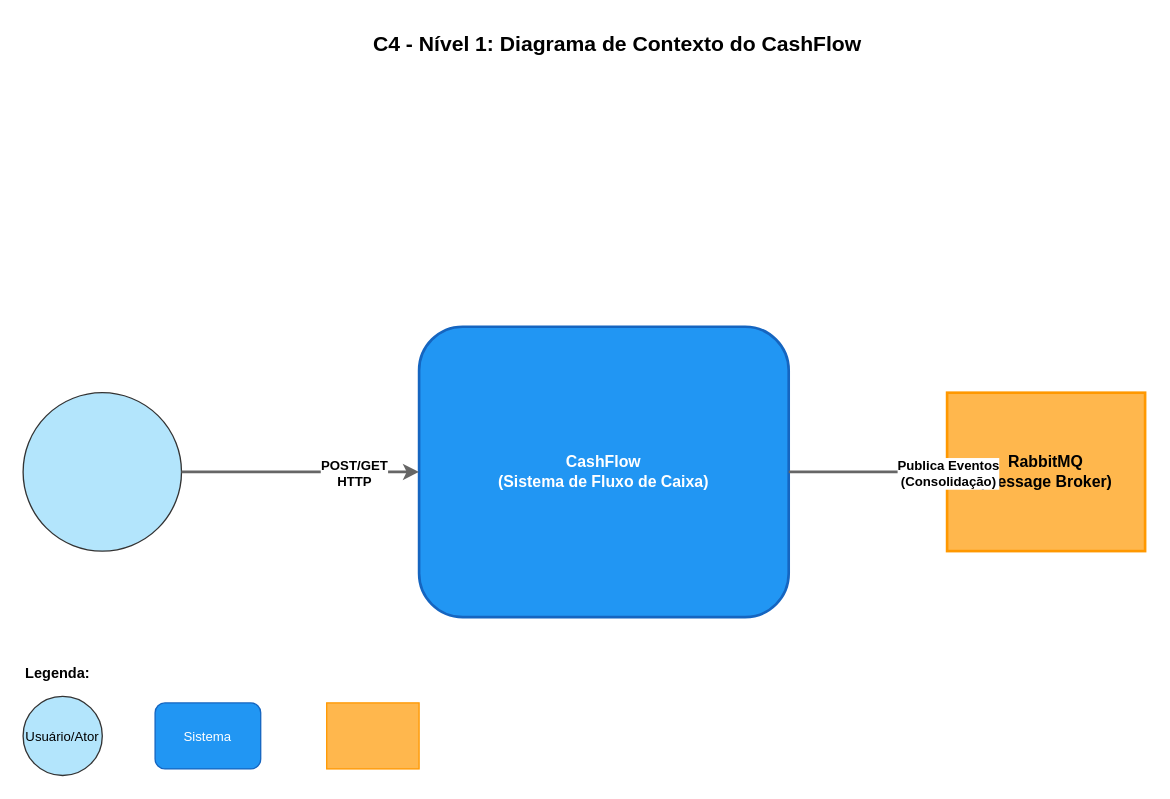
The diagram is 1170 pixels wide and 799 high, and some of its shapes have lost their labels. Each missing label, with the centre of its shape:
"Externo" belongs at point 372,735.
"Merchant (Lojista)" belongs at point 102,471.
